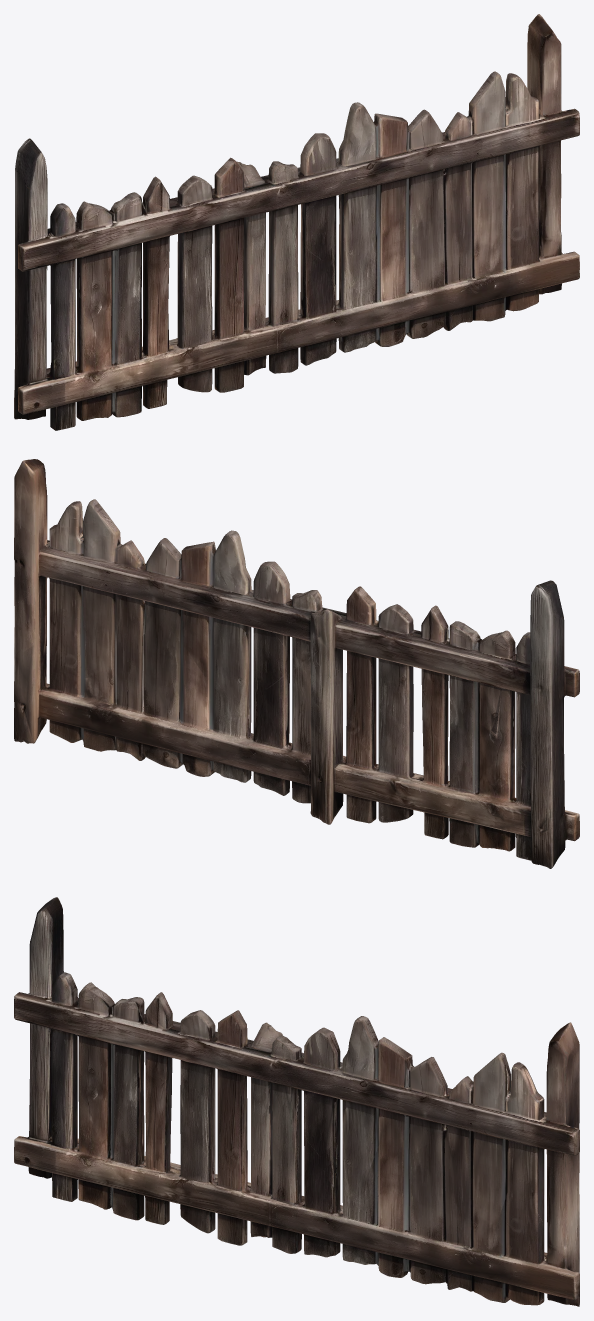
Rendered from Zaun_HolzPlankenRusti.glb.
The picture shows the model from 3 angles, top to bottom: view 1: azimuth 30°, elevation 25°; view 2: azimuth 150°, elevation 25°; view 3: azimuth 330°, elevation 25°; orthographic projection.
Parts seen in each view (by area): view 1: Mesh_0; view 2: Mesh_0; view 3: Mesh_0.
Part boxes in pixels (x1,y1,x2,y2): Mesh_0: [14, 14, 579, 430]; Mesh_0: [14, 459, 579, 868]; Mesh_0: [14, 897, 579, 1306].
Bounding box in the file's own units: 1.91 × 0.9415 × 0.1163.
1 material, 1 textured.
